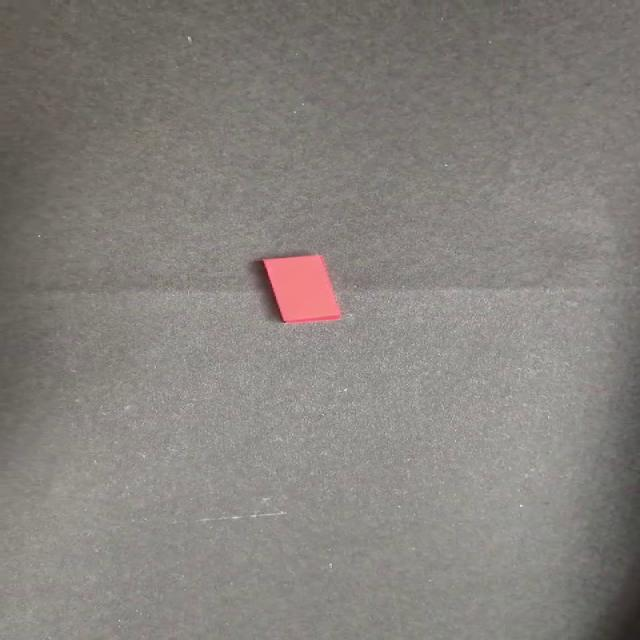red block: (260, 252, 343, 324)
